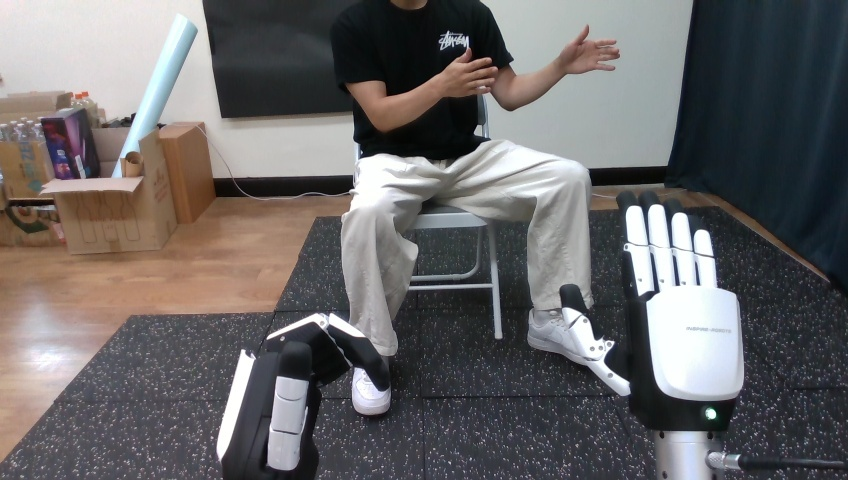left robot hand: (217, 313, 389, 479), (432, 48, 498, 97)
